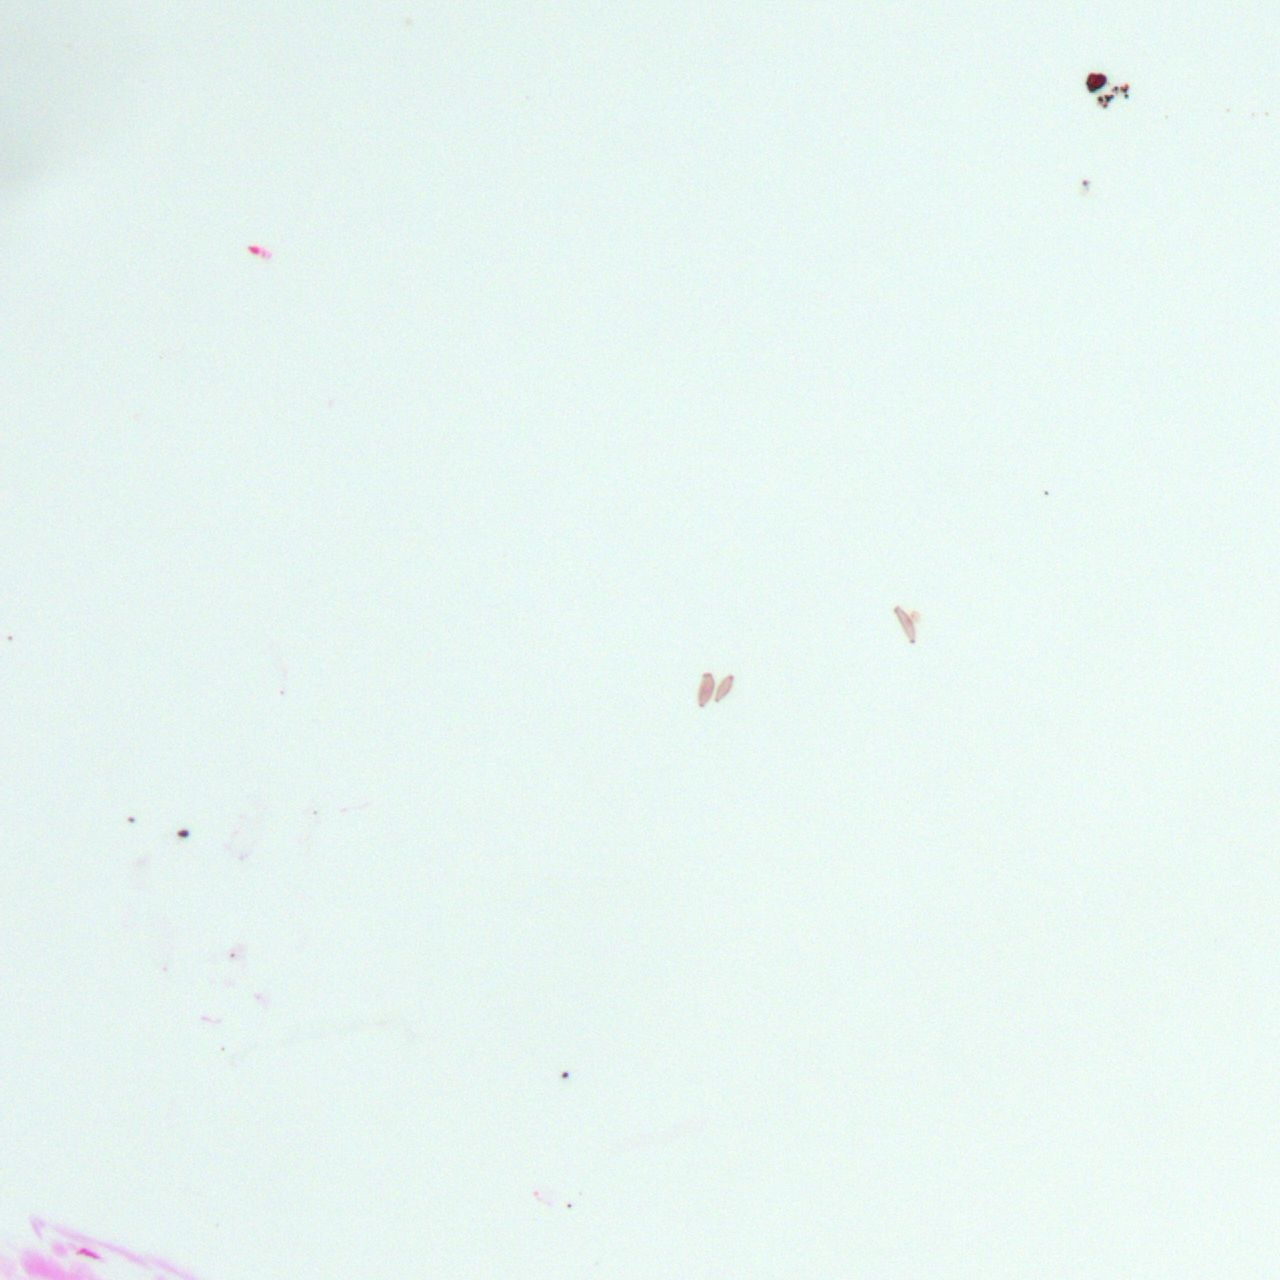dust: (890, 601, 921, 647), (710, 671, 738, 704), (696, 667, 714, 710), (1081, 66, 1109, 93), (1111, 82, 1131, 99), (1096, 94, 1114, 108), (177, 830, 190, 838), (1080, 178, 1090, 188), (560, 1070, 570, 1079), (218, 1045, 227, 1053), (565, 1203, 574, 1210), (1043, 490, 1050, 497), (6, 635, 14, 641), (126, 817, 135, 822), (230, 951, 236, 958)
nucleus-FG: (77, 1246, 98, 1260)
